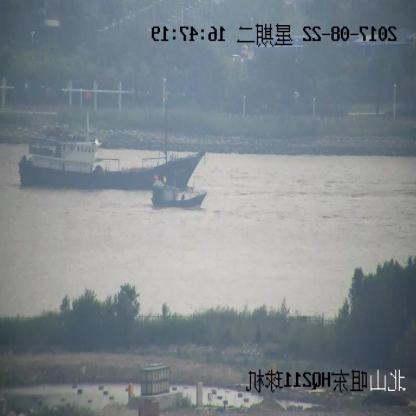Fishing Boat: (19, 81, 205, 188), (152, 175, 206, 209)
